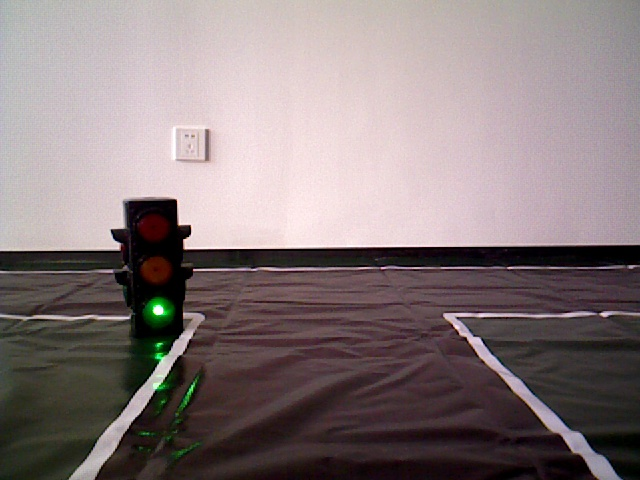green: (126, 203, 182, 334)
